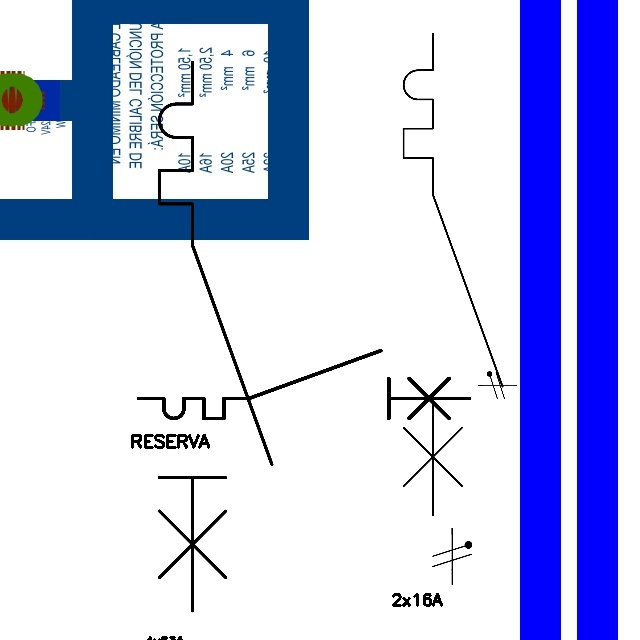interruptor_termomagnetico: (145, 48, 286, 625), (391, 21, 515, 528), (130, 342, 477, 427)
